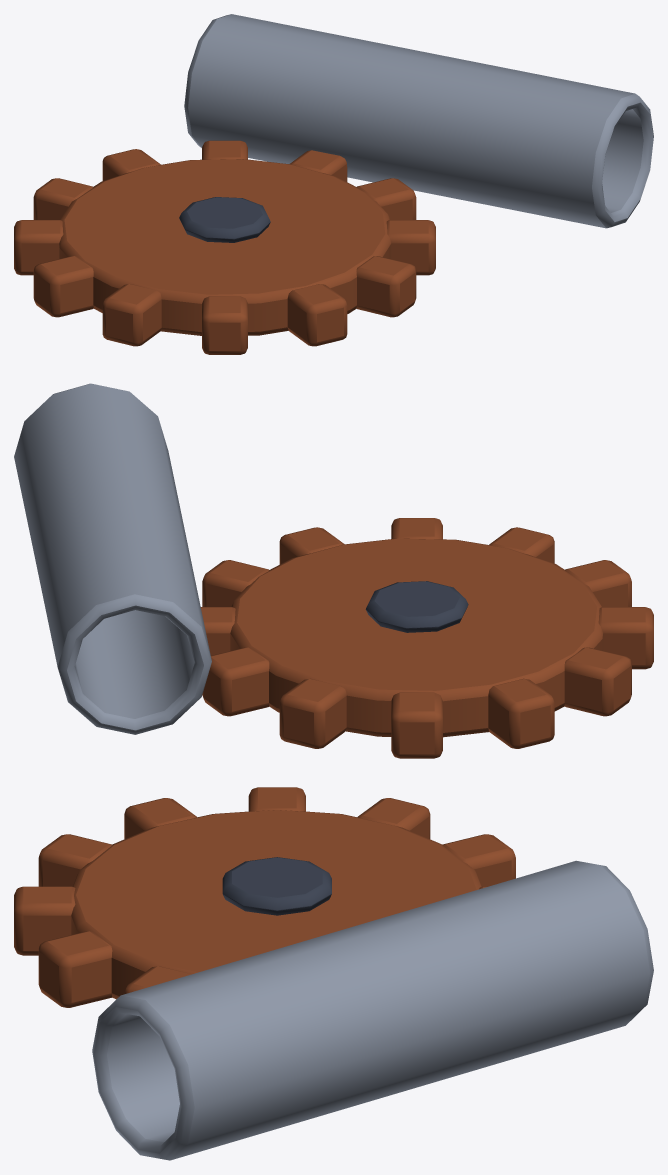
File: schmutz_schrott_2.fbx
3 renders of one model, top to bottom at view 1: azimuth 30°, elevation 25°; view 2: azimuth 150°, elevation 25°; view 3: azimuth 270°, elevation 25°, orthographic. The views are drawn at different scales.
Parts seen in each view (by area): view 1: schmutz_schrott_2_Koerper; view 2: schmutz_schrott_2_Koerper; view 3: schmutz_schrott_2_Koerper.
Part boxes in pixels (<box>): schmutz_schrott_2_Koerper: <box>14,14,653,354</box>; schmutz_schrott_2_Koerper: <box>14,383,653,758</box>; schmutz_schrott_2_Koerper: <box>14,787,653,1160</box>.
Bounding box in the file's own units: 0.8668 × 0.18 × 0.6684.
